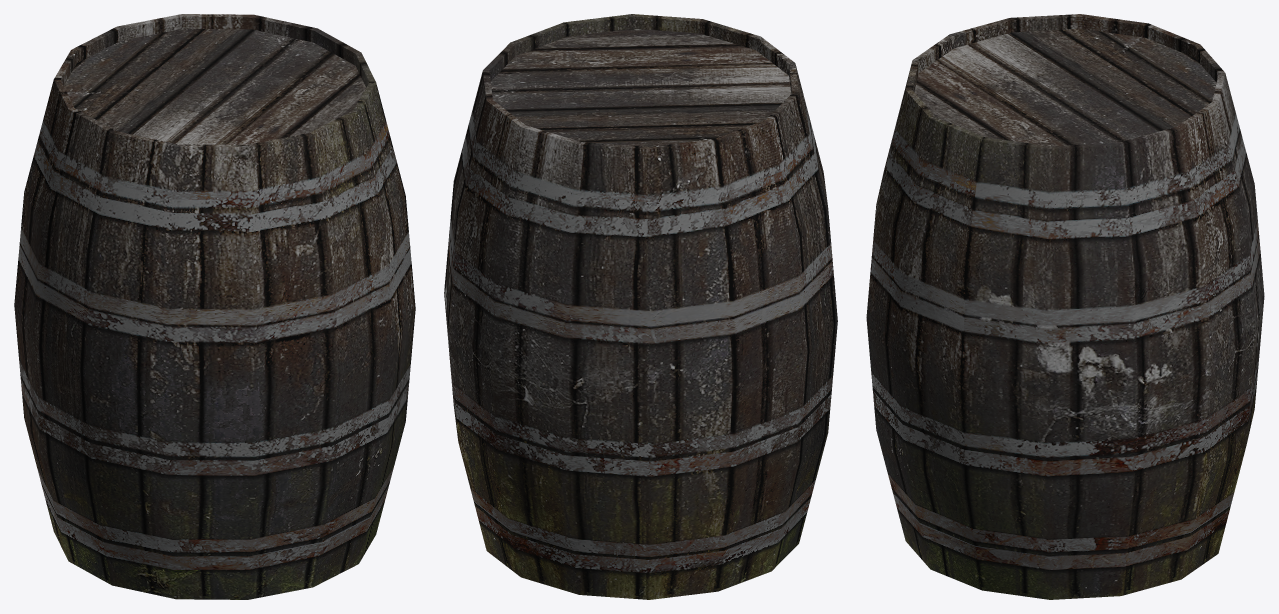
File: barrel.obj
3 renders of one model, left to right at view 1: azimuth 30°, elevation 25°; view 2: azimuth 150°, elevation 25°; view 3: azimuth 270°, elevation 25°, orthographic.
Visible parts, largest first — view 1: wood_barrel_mini; view 2: wood_barrel_mini; view 3: wood_barrel_mini.
Boxes of the visible parts, x1,y1,x2,y2 form: wood_barrel_mini: (14,14,415,599); wood_barrel_mini: (444,14,837,599); wood_barrel_mini: (866,14,1264,599).
Bounding box in the file's own units: 0.5 × 0.625 × 0.5.
Materials: 1 (1 with a texture image).
